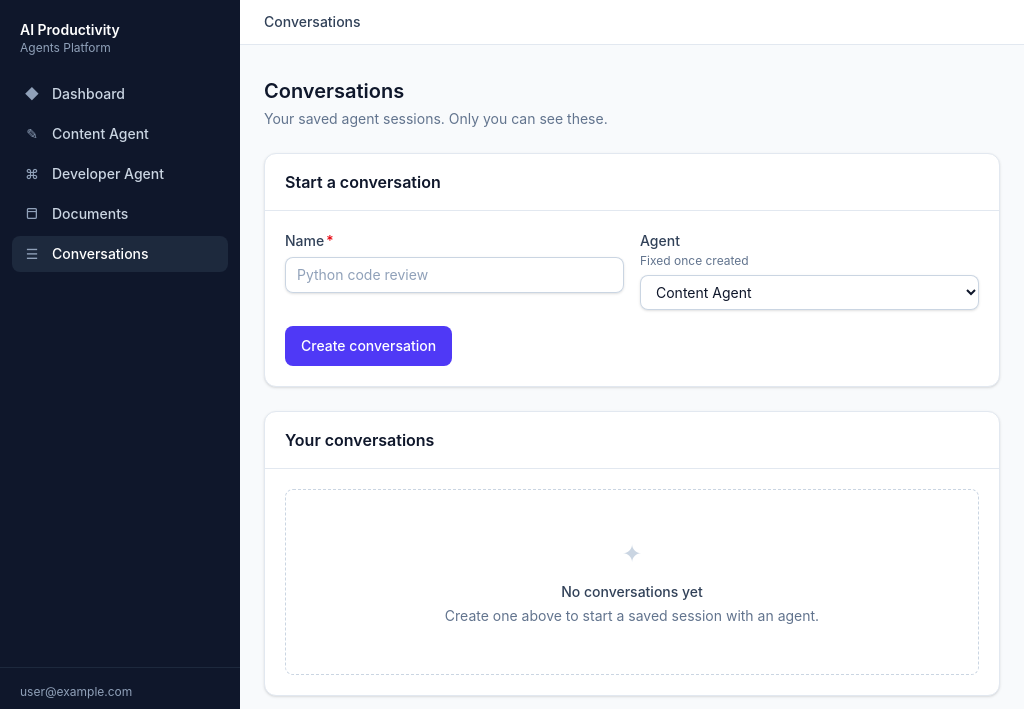
Test: Conversations list › creates a conversation and opens it
In the field labelled "Name*": {"x": 454, "y": 275} x1=285 y1=257 x2=624 y2=293, type "Python Code Review"
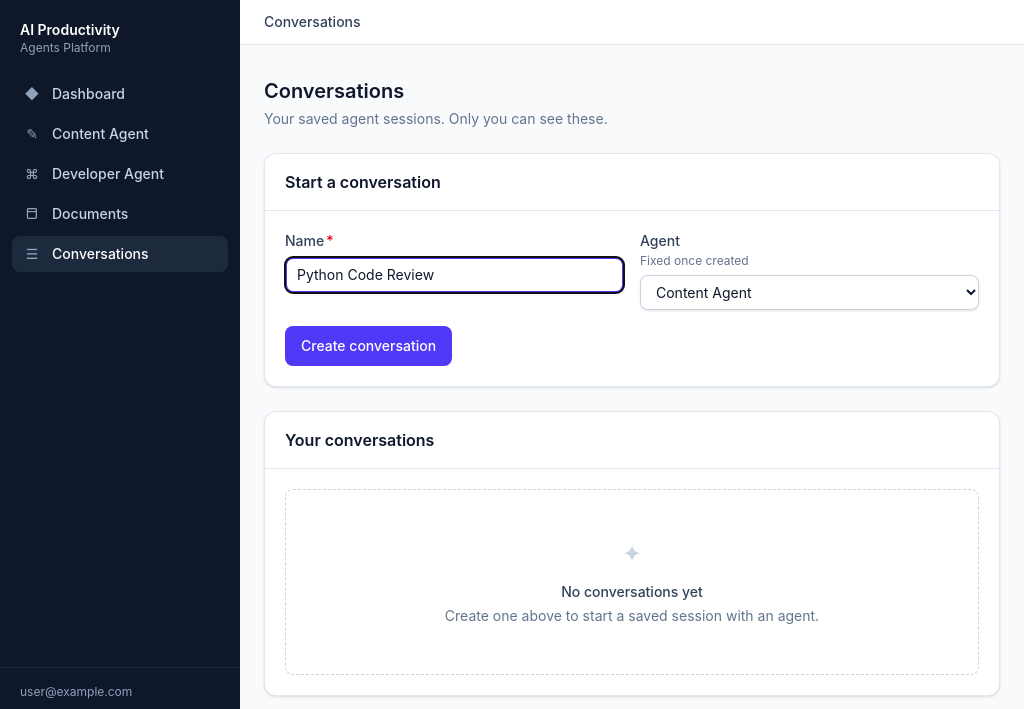
Select "Developer Agent" in the dropdown labelled "Agent": {"x": 810, "y": 292} x1=640 y1=275 x2=979 y2=310
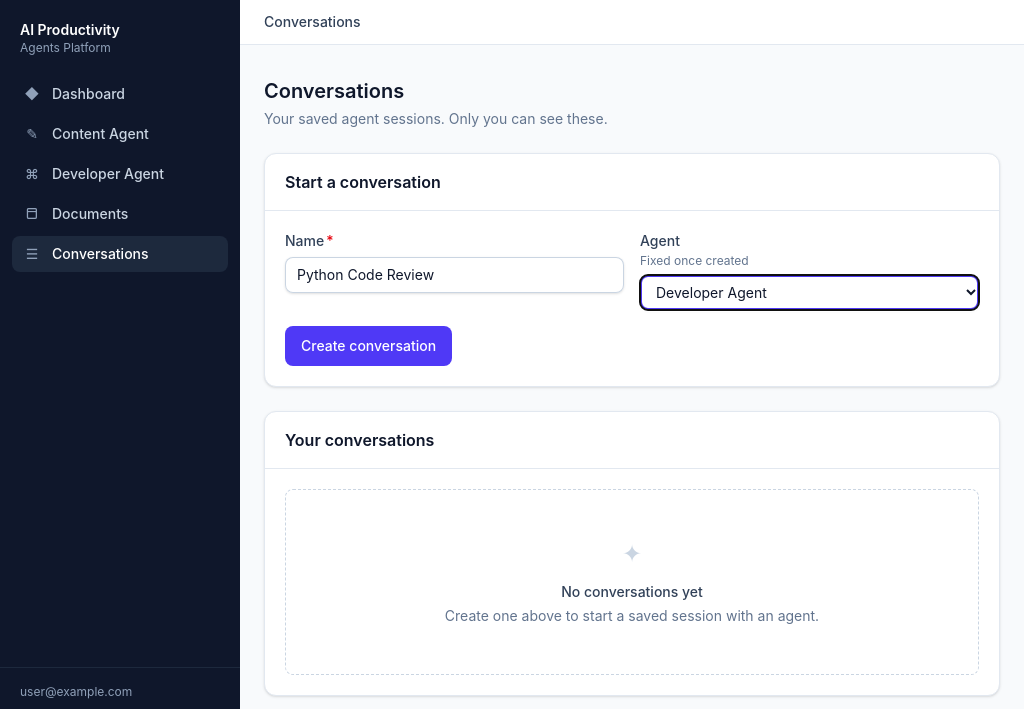
Click the button "Create conversation": {"x": 369, "y": 346} x1=285 y1=326 x2=452 y2=366
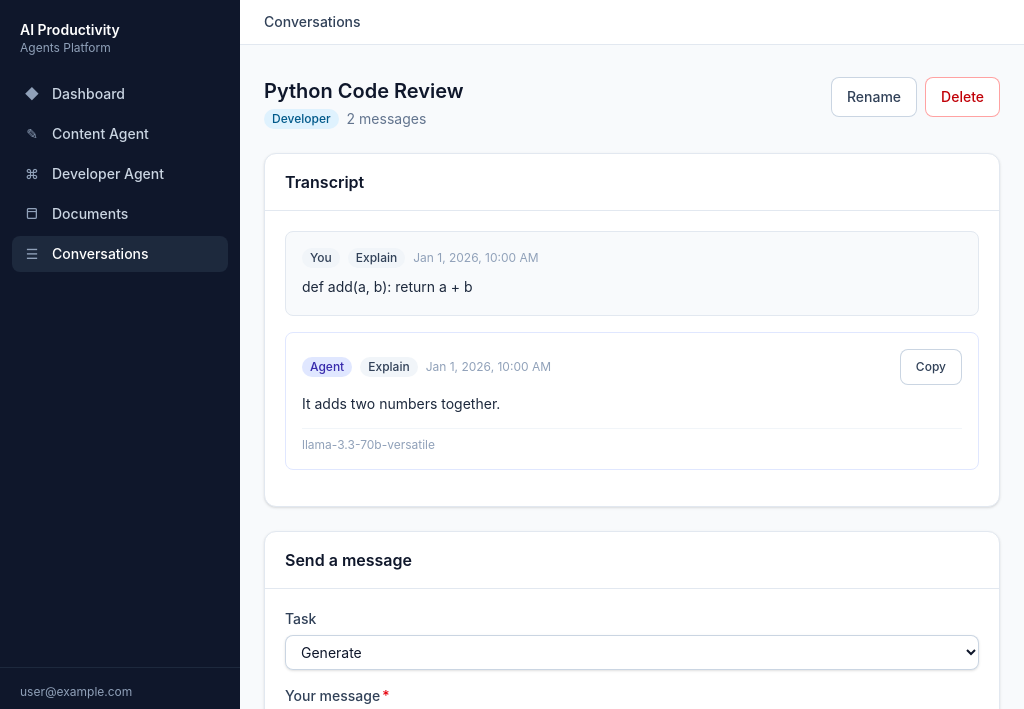
Now the heading "Python Code Review" is shown, box x1=264 y1=77 x2=464 y2=105
